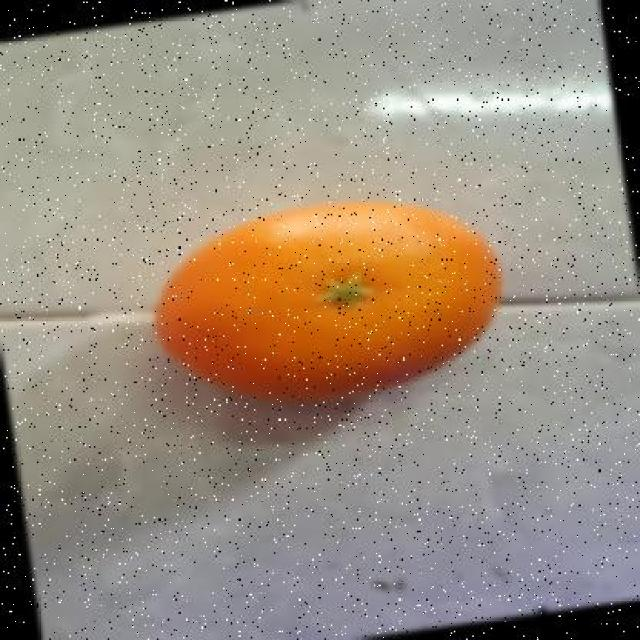Orange: (153, 198, 502, 404)
